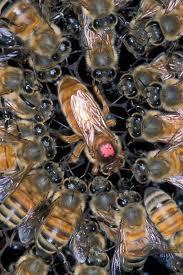Queen-Bee: (55, 73, 130, 182)
worker-bee: (0, 0, 75, 70), (0, 161, 72, 227), (33, 178, 91, 250), (135, 180, 183, 264), (107, 186, 150, 273), (79, 3, 122, 84), (0, 126, 60, 172)
